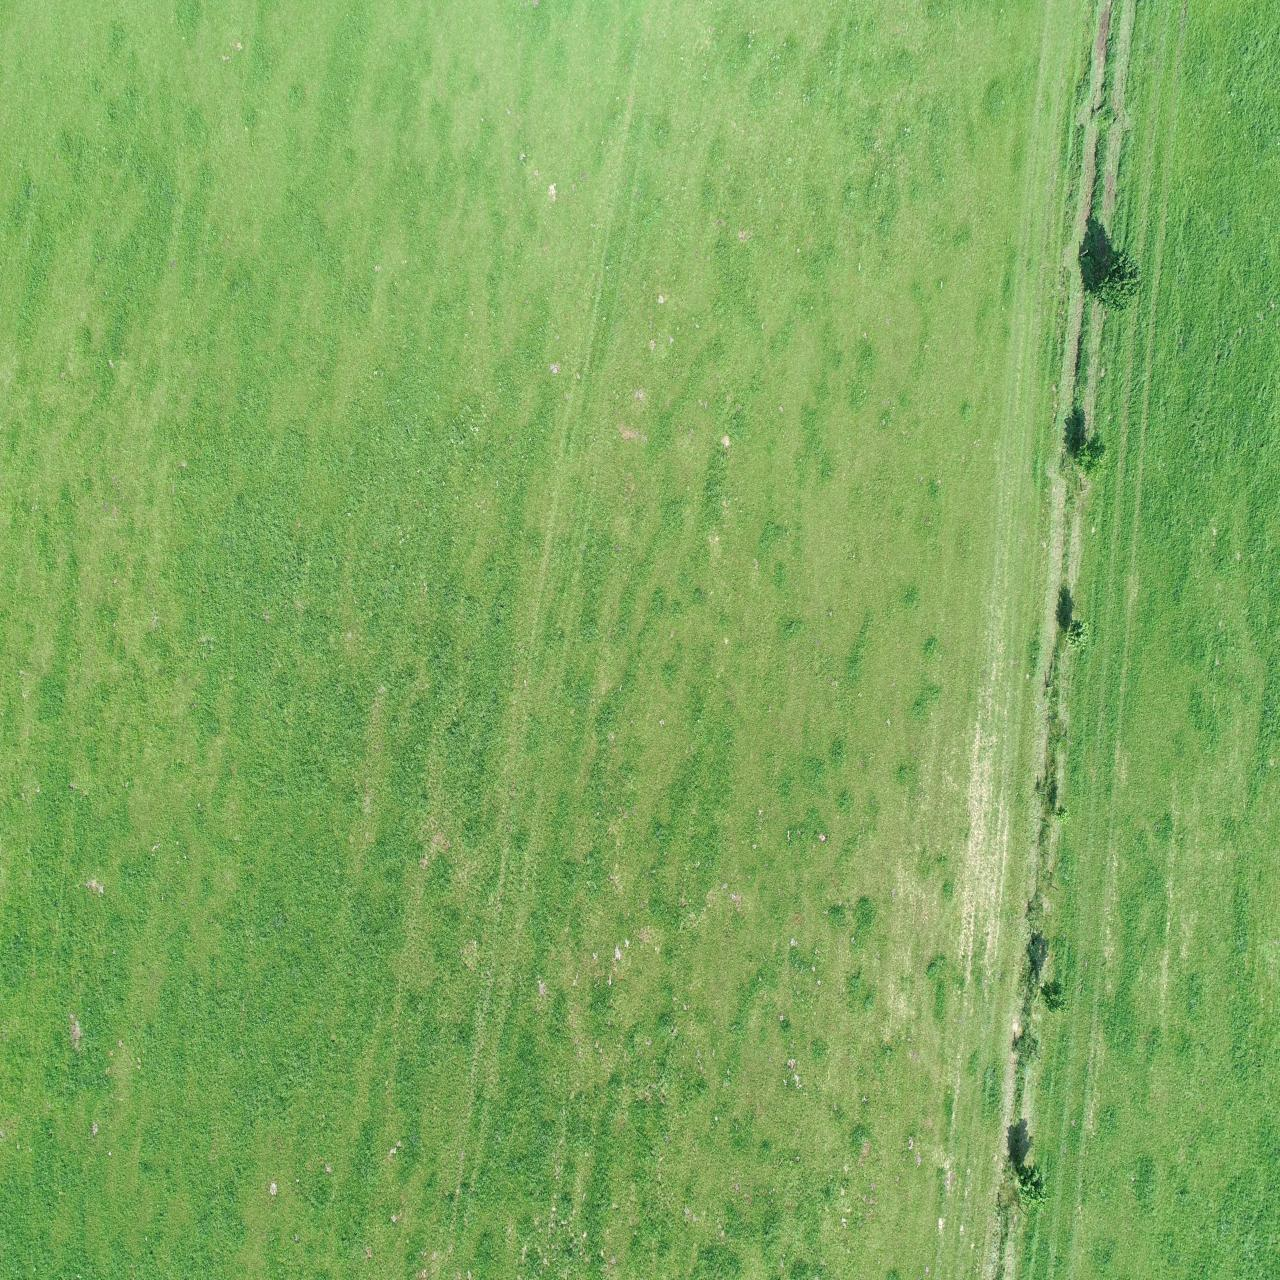cow: (36, 1008, 64, 1065), (134, 830, 164, 879)
